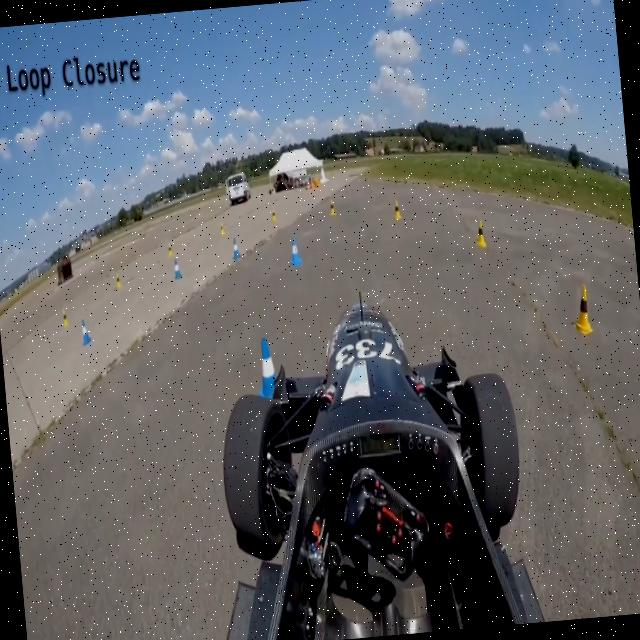blue_cone: (254, 334, 276, 388), (285, 234, 308, 268), (75, 315, 94, 346), (228, 237, 244, 264), (172, 256, 182, 278)
yellow_cone: (568, 284, 594, 342), (388, 190, 412, 232), (466, 216, 491, 254), (322, 190, 339, 229)
